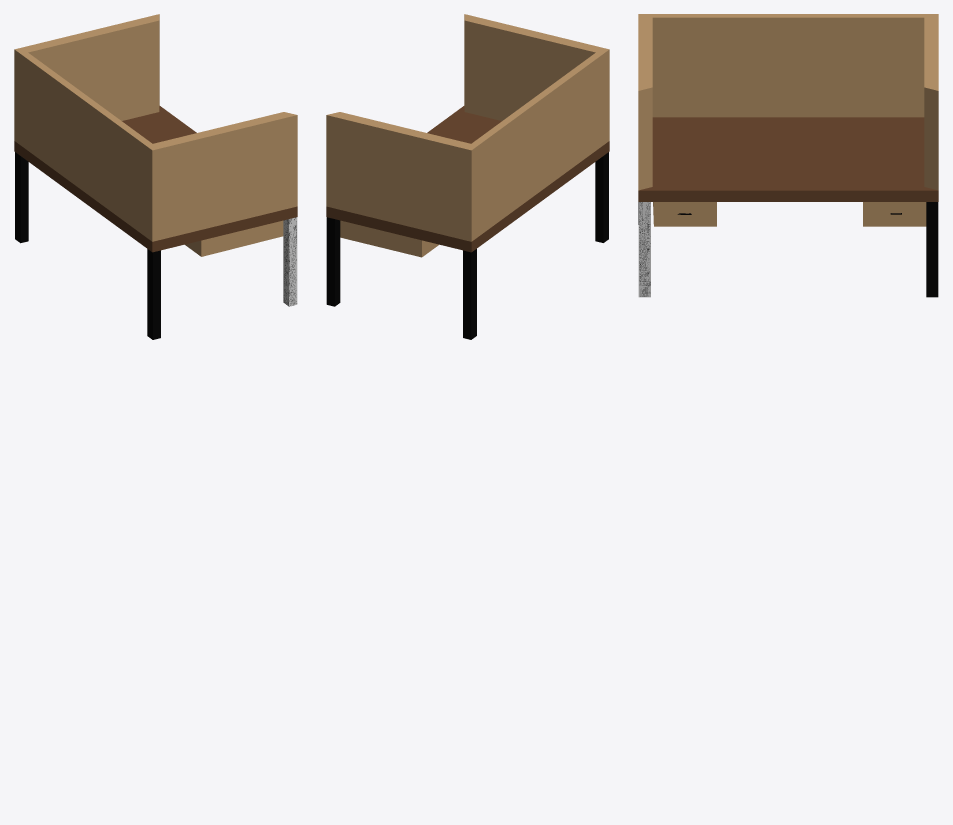
Rendered from OfficeTable(Covered).glb.
3 views of the same model, side by side, from view 1: azimuth 30°, elevation 25°; view 2: azimuth 150°, elevation 25°; view 3: azimuth 270°, elevation 25° (orthographic). The views are drawn at different scales.
Visible parts, largest first — view 1: Office_Table; view 2: Office_Table; view 3: Office_Table.
Boxes of the visible parts, left/top/right/bottom form: Office_Table: left=14, top=14, right=297, bottom=339; Office_Table: left=326, top=14, right=609, bottom=339; Office_Table: left=638, top=14, right=938, bottom=297.
Bounding box in the file's own units: 2.08 × 9.04 × 3.41.
